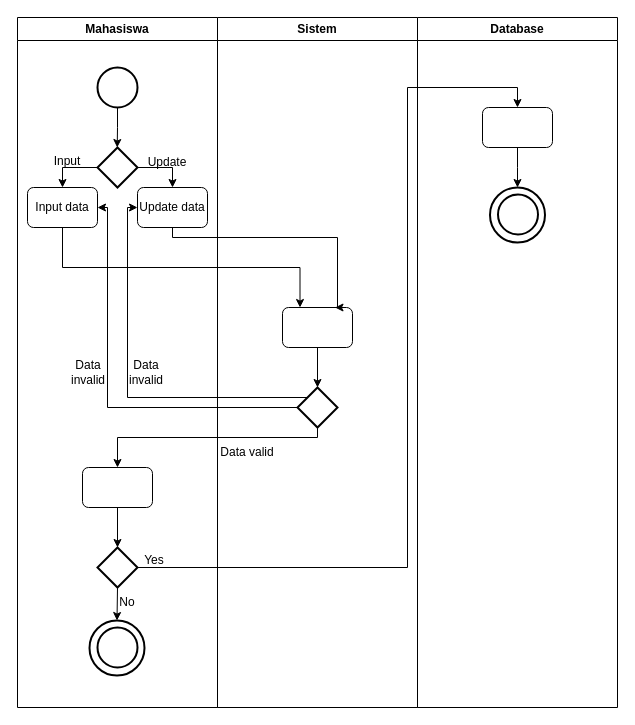
Some shapes in this 635 by 725 pixel diagram are drawn without their labels. Here are the shapes that lost their labels. From the top down, the centre of each, then its label:
At [517,127]: "Simpan data".
At [317,327]: "Validasi data".
At [117,487]: "Konfirmasi perubahan".
